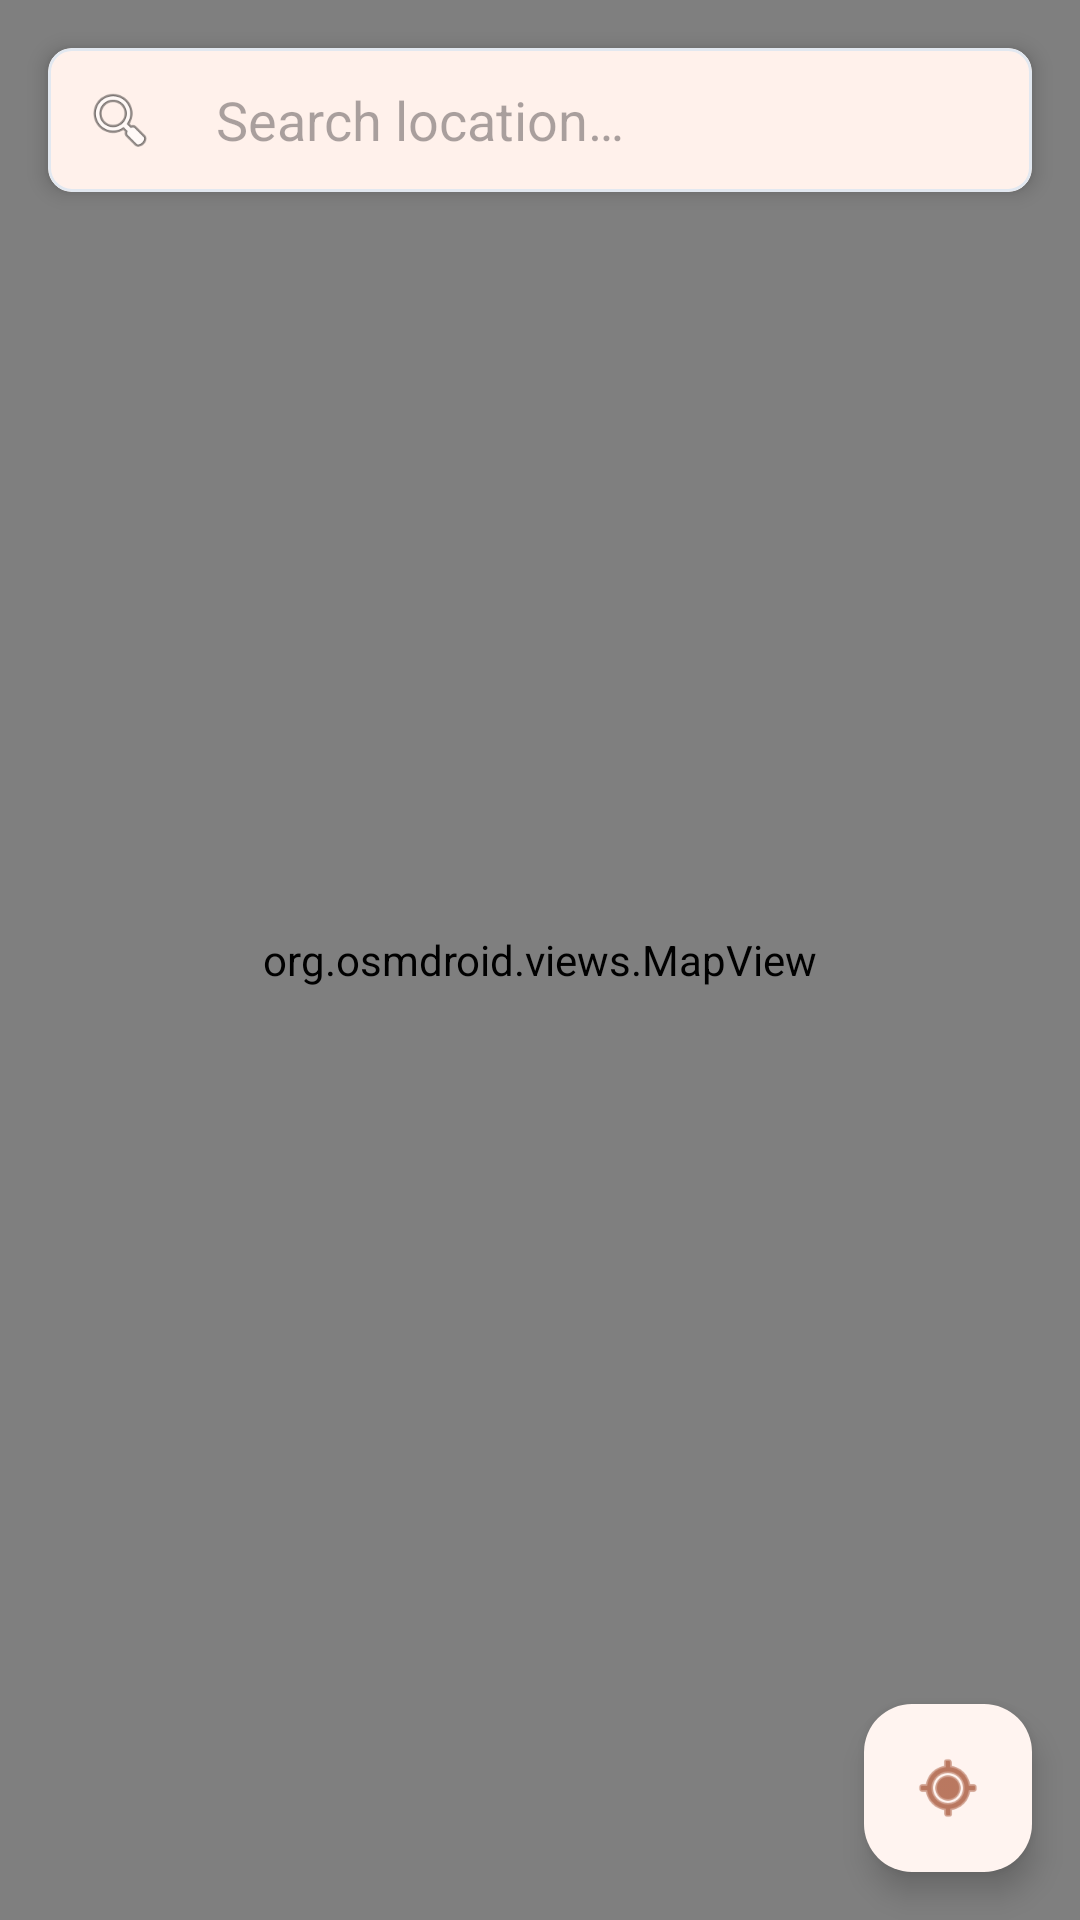

Named icons in this screenshot (1080px x 1920px) and their bounding boxes, [x1,y1,x2,y2]:
My Location: [864,1704,1032,1872]
